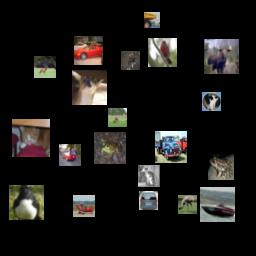airplane: (73, 195, 95, 217)
automobile: (74, 36, 103, 65), (59, 144, 81, 166), (139, 191, 158, 210)
bird: (9, 185, 44, 220), (148, 38, 177, 67), (178, 195, 197, 214)
cat: (12, 119, 50, 157), (138, 165, 160, 187), (202, 92, 221, 111)
deer: (204, 39, 239, 74), (72, 70, 107, 105), (34, 56, 56, 78), (121, 51, 140, 70), (108, 108, 127, 127)
frog: (94, 132, 126, 164), (208, 154, 234, 180)
ship: (200, 187, 235, 222)
truck: (155, 131, 187, 163), (144, 12, 160, 28)
